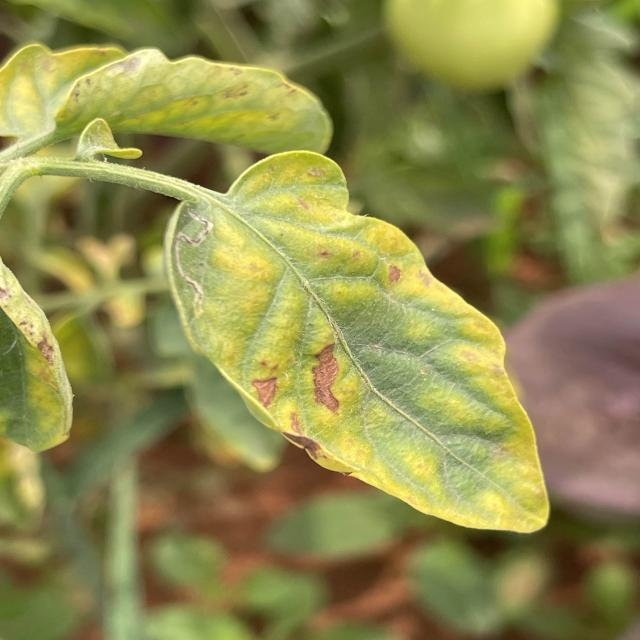tomato_early blight: (165, 150, 548, 532), (0, 43, 331, 162), (0, 253, 77, 453)
